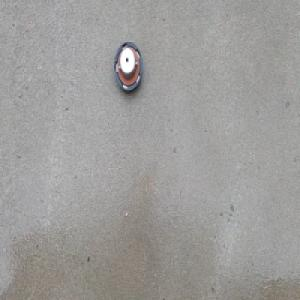FuelCap: (114, 41, 143, 94)
